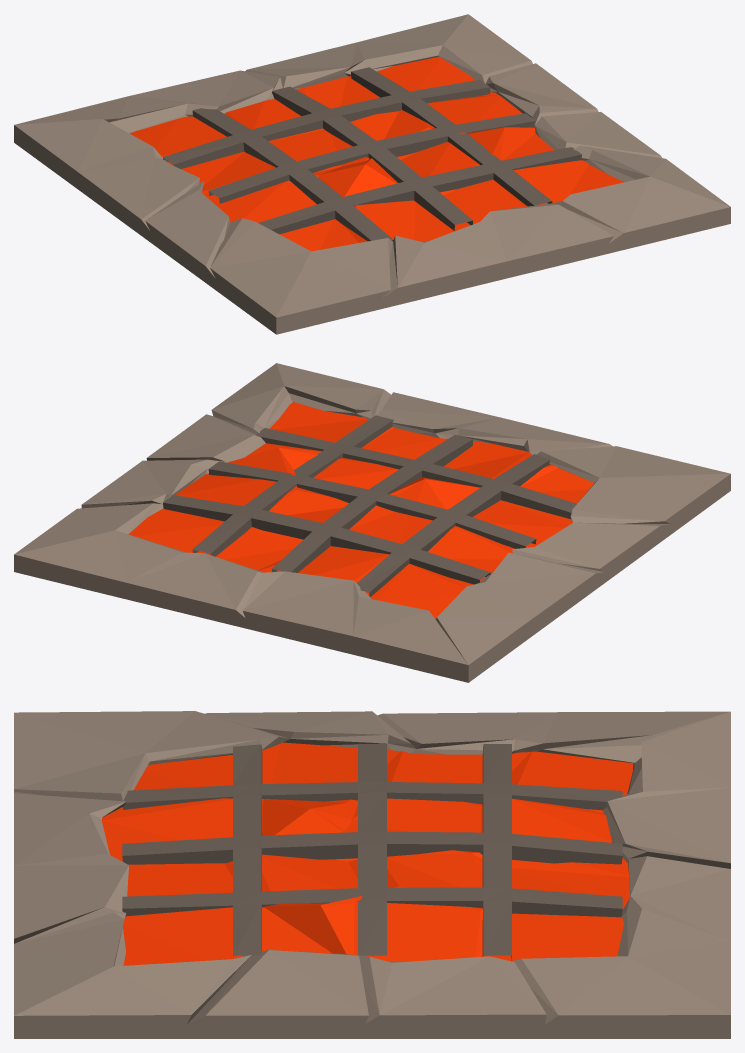
Rendered from RG-Dungeon_Lava-Floor.fbx.
3 views of the same model, one above another, from view 1: azimuth 30°, elevation 25°; view 2: azimuth 150°, elevation 25°; view 3: azimuth 270°, elevation 25° (orthographic). The views are drawn at different scales.
Visible parts, largest first — view 1: RG-Dungeon_Lava-Floor; view 2: RG-Dungeon_Lava-Floor; view 3: RG-Dungeon_Lava-Floor.
Part boxes in pixels (x1,y1,x2,y2): RG-Dungeon_Lava-Floor: (14,14,730,334); RG-Dungeon_Lava-Floor: (14,363,730,682); RG-Dungeon_Lava-Floor: (14,711,730,1038).
Size of the model in its own units: 10 by 1.11 by 10.
